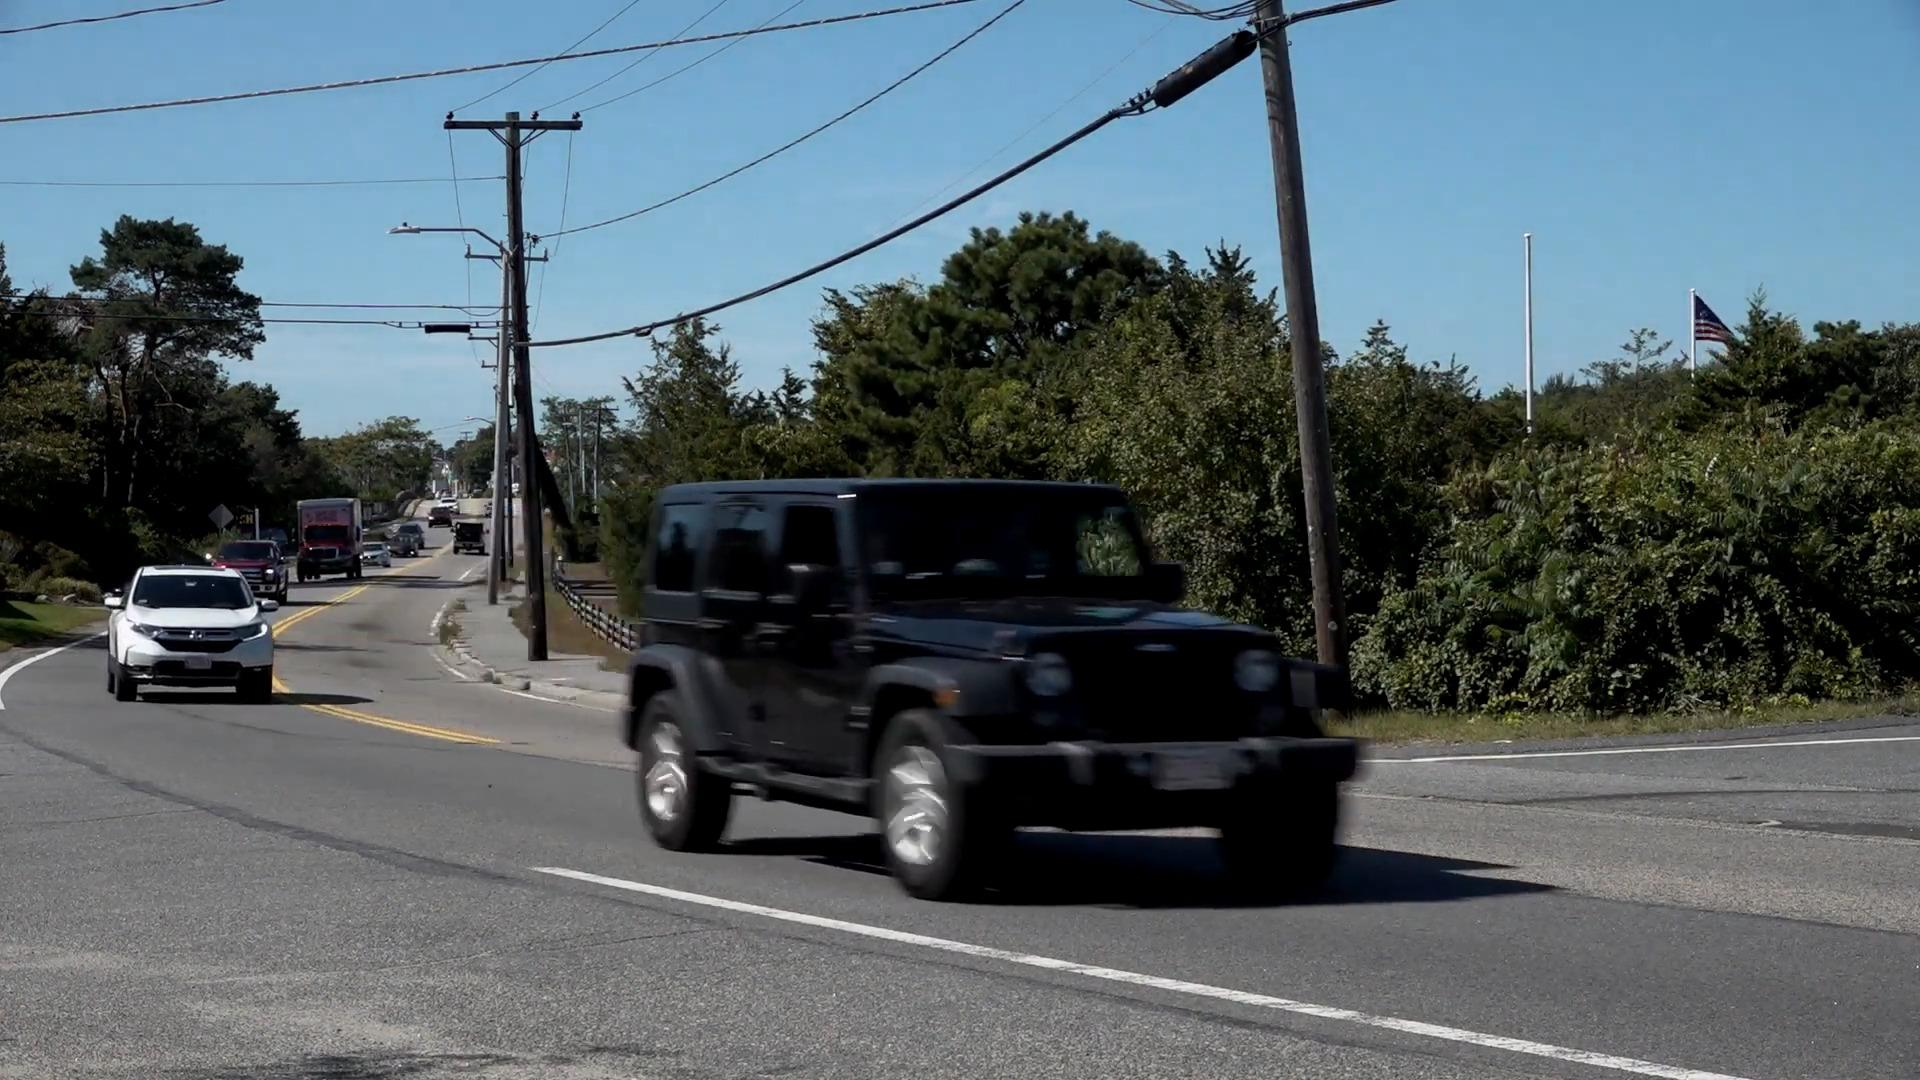suv: (617, 481, 1371, 903), (103, 558, 277, 708)
